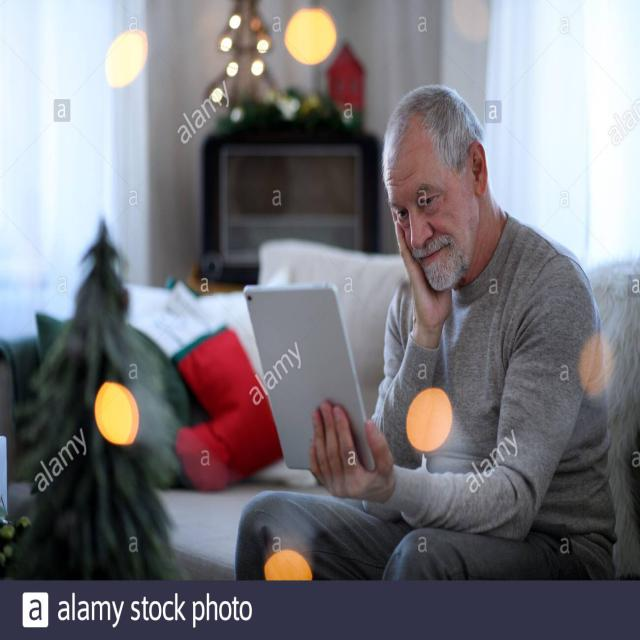sit: (226, 87, 621, 584)
